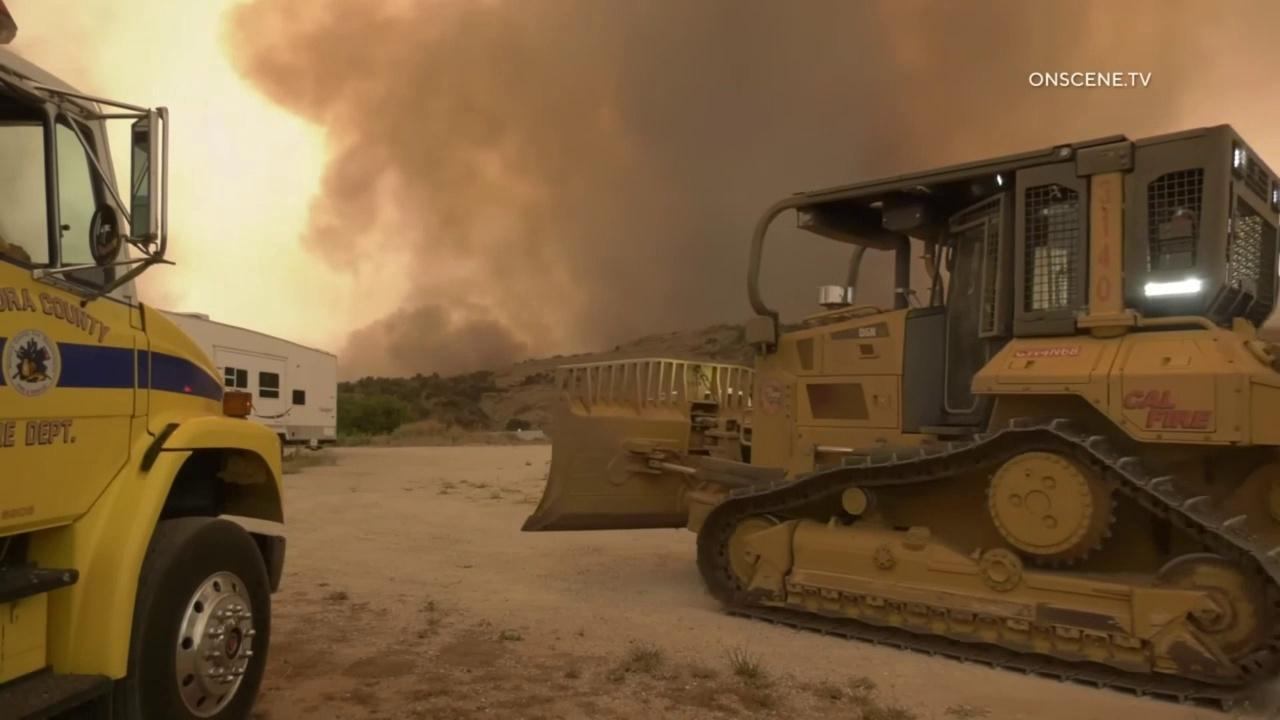smoke: (215, 0, 1280, 383)
